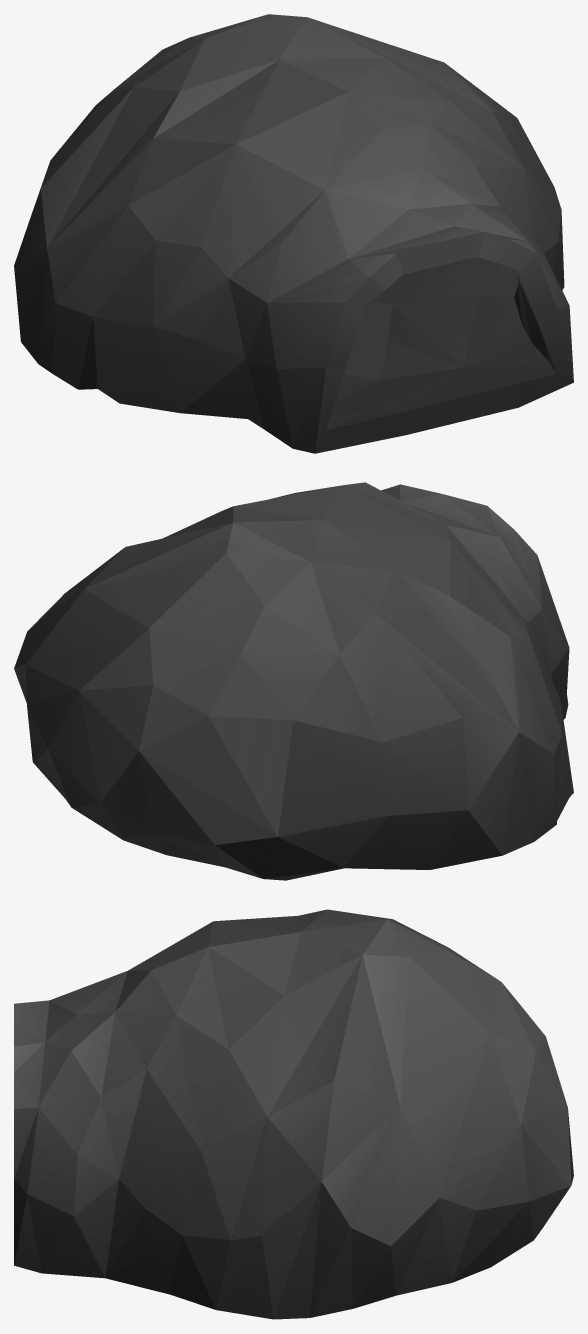
File: GL-Cave-part-07-LOD2.fbx
The picture shows the model from 3 angles, top to bottom: view 1: azimuth 30°, elevation 25°; view 2: azimuth 150°, elevation 25°; view 3: azimuth 270°, elevation 25°; orthographic projection.
Parts seen in each view (by area): view 1: GL_Cave_part_07; view 2: GL_Cave_part_07; view 3: GL_Cave_part_07.
Boxes of the visible parts, x1=… form: GL_Cave_part_07: x1=14, y1=14, x2=573, y2=453; GL_Cave_part_07: x1=14, y1=482, x2=573, y2=880; GL_Cave_part_07: x1=14, y1=909, x2=573, y2=1319.
Size of the model in its own units: 6.54 by 3.4 by 6.24.
